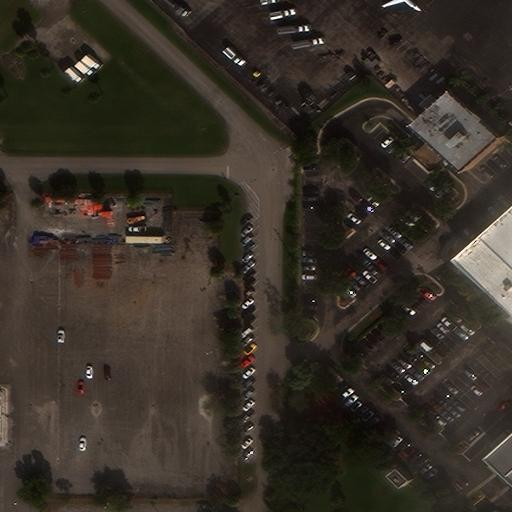Medium Civil Transport: (382, 0, 420, 11)
